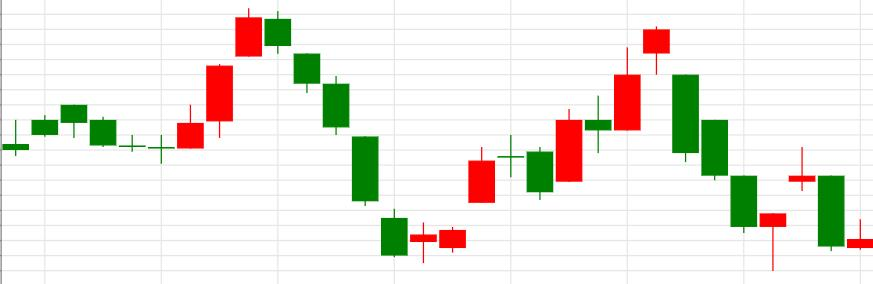evening_star_fall: (409, 135, 554, 264)
three_black_crows_fall: (147, 7, 351, 163)
